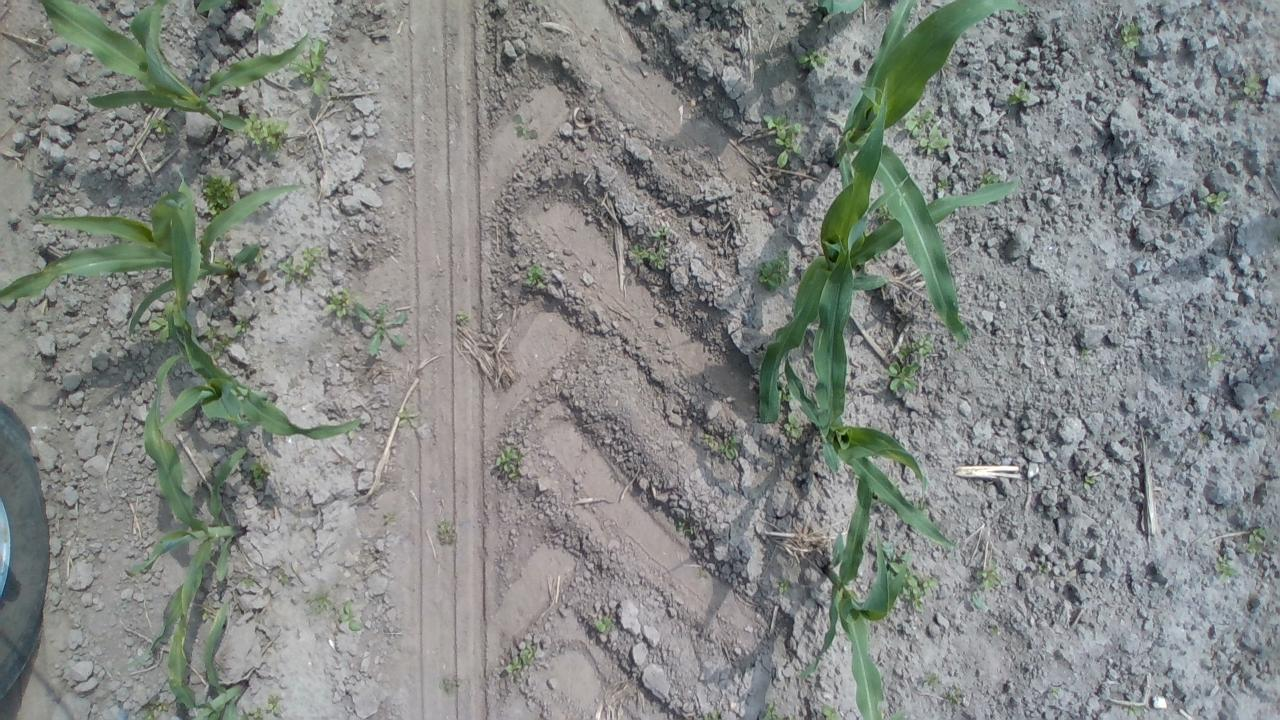Maize: (756, 74, 1020, 426), (826, 0, 1026, 351), (782, 173, 960, 549), (158, 167, 366, 442), (0, 184, 309, 336), (125, 352, 251, 709), (36, 2, 312, 130), (796, 477, 909, 720), (195, 601, 256, 720), (815, 0, 865, 17)
Weeds: (354, 301, 410, 362), (294, 37, 334, 96), (276, 244, 327, 289), (762, 112, 802, 168), (242, 112, 290, 151), (900, 570, 942, 614), (198, 173, 240, 214), (756, 250, 791, 292), (320, 282, 360, 318), (896, 330, 936, 361), (905, 108, 938, 141), (886, 361, 921, 392), (630, 240, 665, 269), (973, 557, 1003, 590), (252, 1, 282, 34), (918, 125, 954, 152), (506, 644, 537, 675), (334, 598, 364, 630), (1244, 524, 1272, 556), (798, 46, 832, 72), (497, 445, 521, 481), (1006, 80, 1034, 110), (304, 584, 332, 614), (512, 112, 539, 142), (881, 539, 914, 563), (148, 316, 172, 347), (1118, 20, 1140, 52), (438, 675, 470, 697), (397, 402, 424, 428), (716, 432, 740, 461), (139, 699, 172, 720), (432, 518, 458, 544), (1200, 190, 1228, 214), (1213, 554, 1238, 578), (942, 682, 966, 706), (208, 334, 232, 358), (915, 669, 940, 691), (784, 409, 802, 439), (524, 262, 544, 288), (247, 456, 268, 480), (1243, 72, 1265, 94), (1205, 344, 1224, 369), (147, 115, 172, 134), (266, 692, 284, 715), (818, 703, 842, 720), (761, 699, 780, 720), (234, 315, 253, 334), (273, 567, 290, 587), (1122, 706, 1148, 718), (976, 172, 1002, 184), (676, 520, 698, 534), (969, 594, 986, 612), (596, 615, 614, 632), (650, 224, 671, 238), (696, 558, 710, 579), (456, 310, 472, 328), (382, 509, 397, 528), (196, 602, 210, 622), (702, 432, 716, 451), (776, 578, 790, 596), (936, 179, 952, 194), (702, 709, 723, 720), (1082, 476, 1096, 492), (879, 206, 893, 222), (250, 705, 266, 719), (242, 576, 257, 590), (1194, 430, 1210, 443), (779, 388, 792, 404), (204, 324, 218, 338), (1081, 347, 1095, 360), (1051, 685, 1063, 700), (212, 254, 227, 266), (1036, 564, 1050, 576), (988, 624, 998, 635), (1271, 410, 1280, 421), (348, 430, 356, 441), (788, 714, 798, 720)
